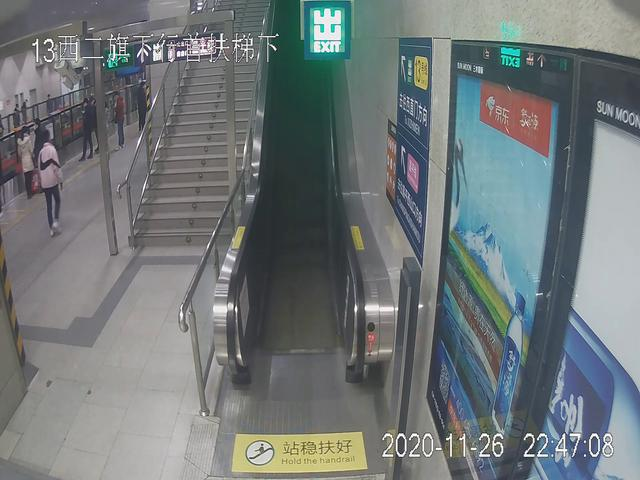person: (37, 135, 66, 235), (19, 123, 33, 203), (110, 90, 124, 152), (81, 95, 94, 159), (137, 81, 151, 135)
